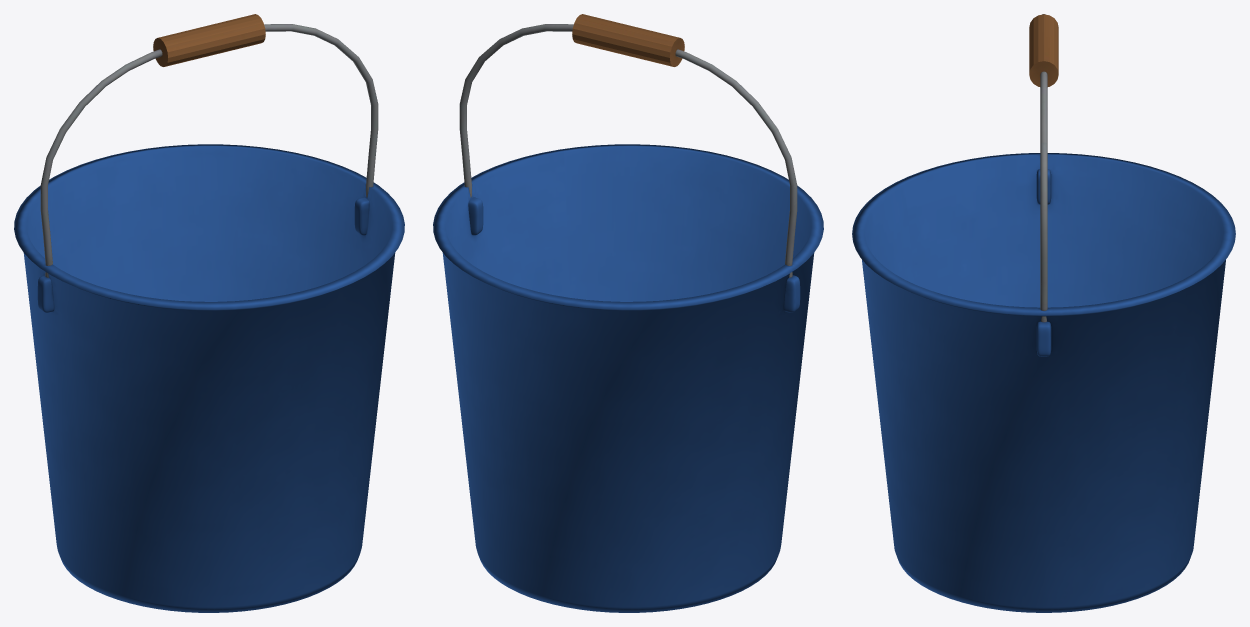
Rendered from plastic-blue.glb.
The picture shows the model from 3 angles, left to right: view 1: azimuth 30°, elevation 25°; view 2: azimuth 150°, elevation 25°; view 3: azimuth 270°, elevation 25°; orthographic projection.
Visible parts, largest first — view 1: plastic_primary, steel_wire, wood_x; view 2: plastic_primary, steel_wire, wood_x; view 3: plastic_primary, steel_wire, wood_x.
Boxes of the visible parts, x1,y1,x2,y2 form: plastic_primary: [14, 144, 404, 612]; steel_wire: [40, 24, 378, 277]; wood_x: [153, 14, 265, 66]; plastic_primary: [433, 144, 823, 612]; steel_wire: [459, 24, 797, 277]; wood_x: [572, 14, 684, 66]; plastic_primary: [852, 153, 1235, 612]; steel_wire: [1040, 14, 1047, 322]; wood_x: [1029, 14, 1058, 86].
Bounding box in the file's own units: 0.312 × 0.46 × 0.312.
3 materials, 3 textured.
